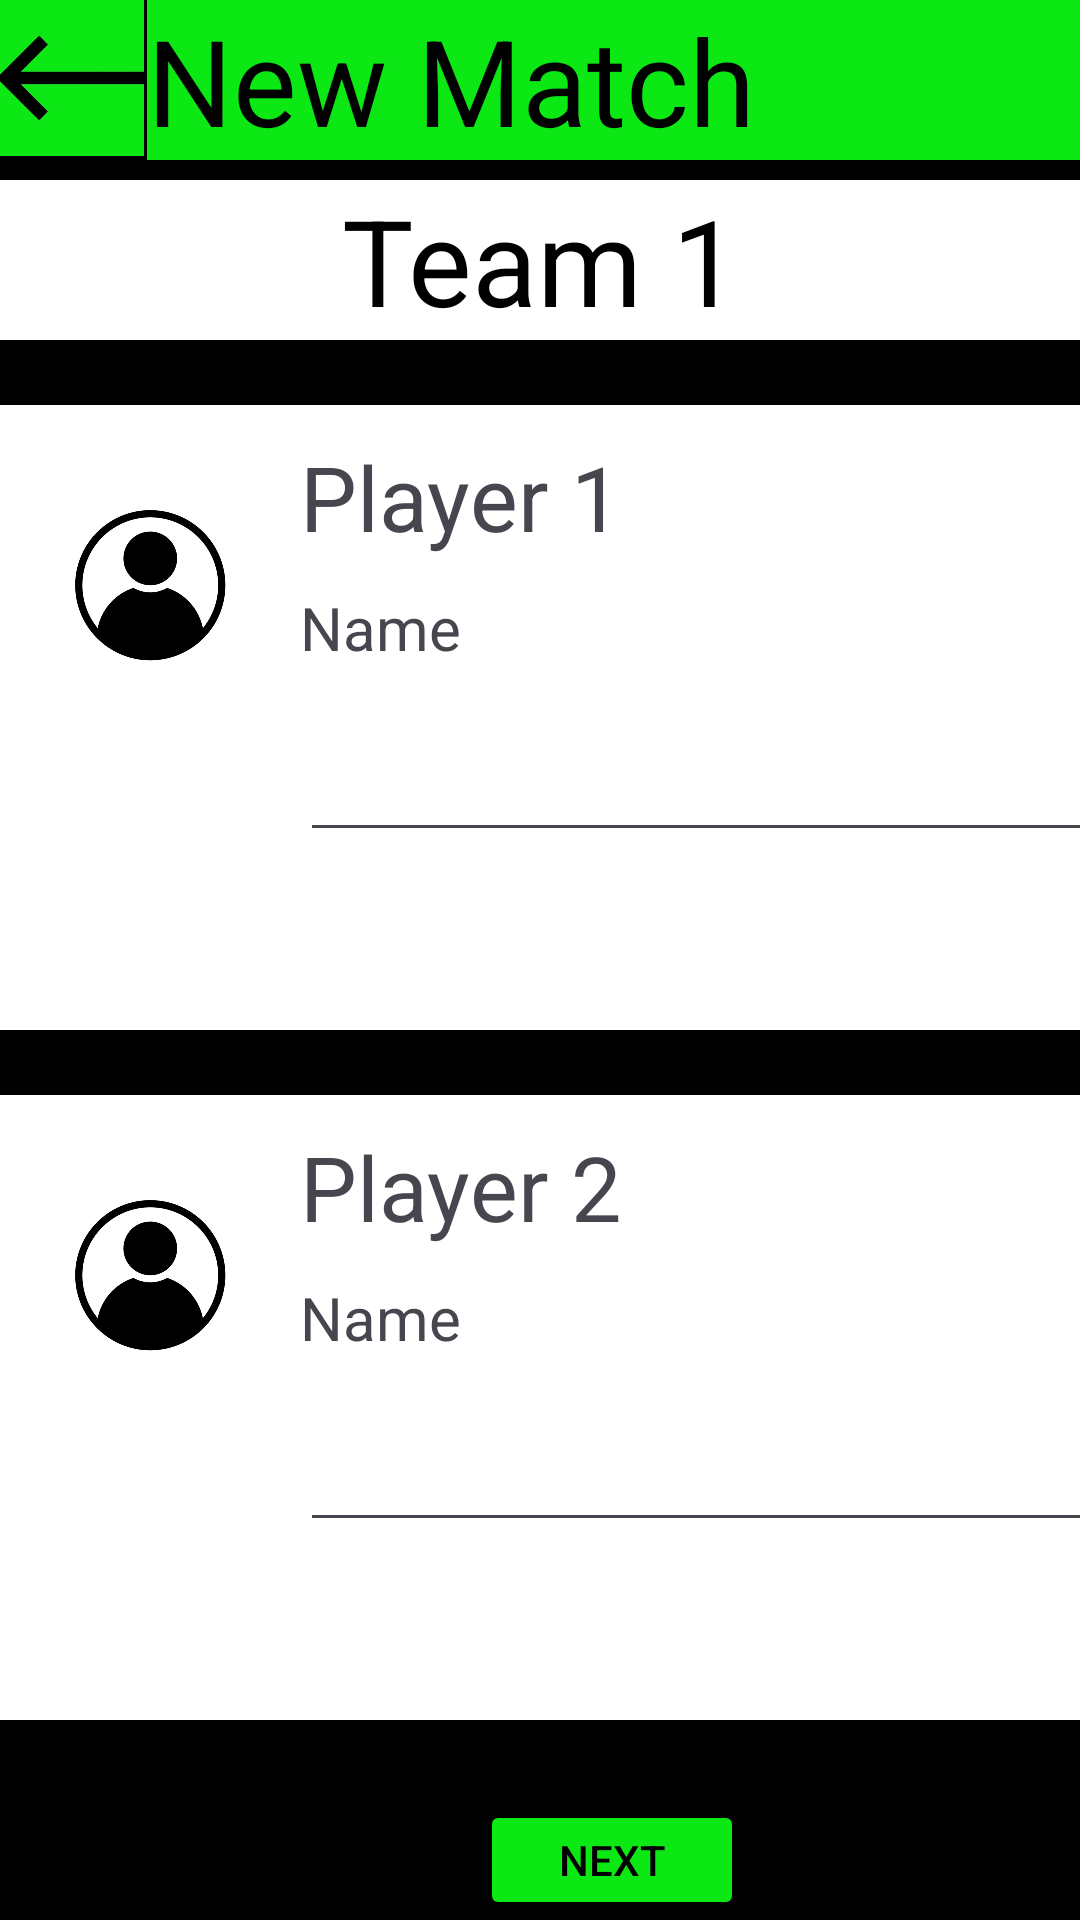

Locate icon controls on the screen. Image size 1080*1920, boxes as (x1=x1, y1=y1, x2=x2, y2=y2).
left arrow: (x1=0, y1=36, x2=144, y2=120)
user photo: (x1=75, y1=510, x2=226, y2=661), (x1=75, y1=1200, x2=226, y2=1351)
